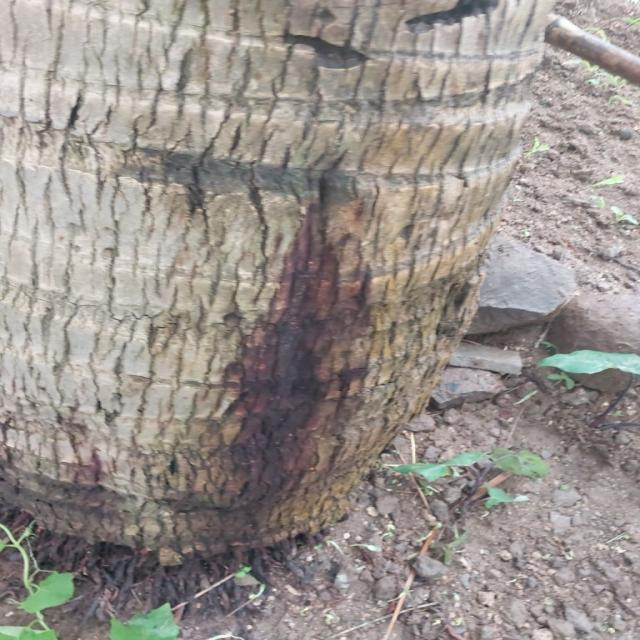stembleeding: (188, 164, 358, 520)
